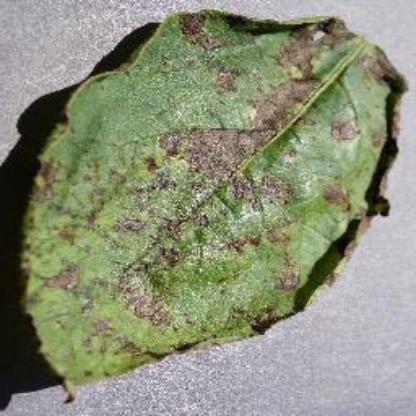Early-Blight: (19, 5, 416, 408)
